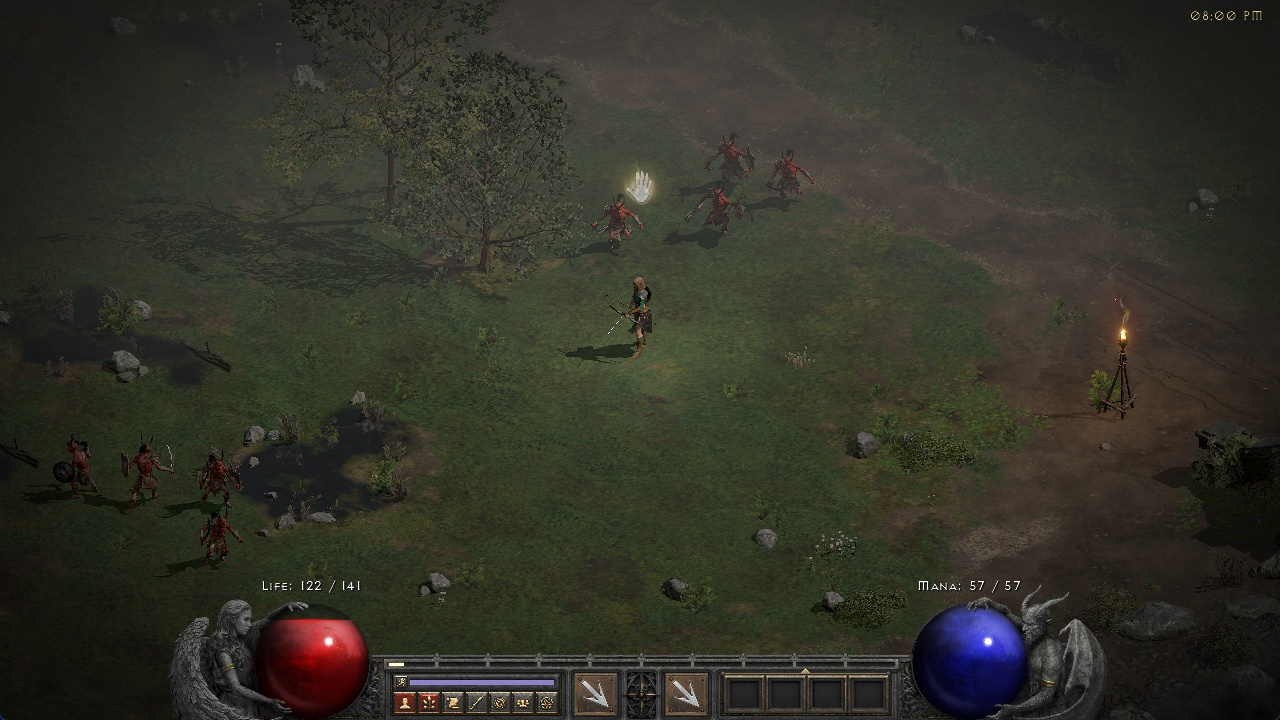fallen: (680, 182, 749, 236), (122, 439, 175, 506), (586, 195, 645, 254), (53, 438, 103, 496), (766, 150, 817, 203), (194, 451, 245, 504), (200, 507, 241, 564), (702, 134, 751, 179)
